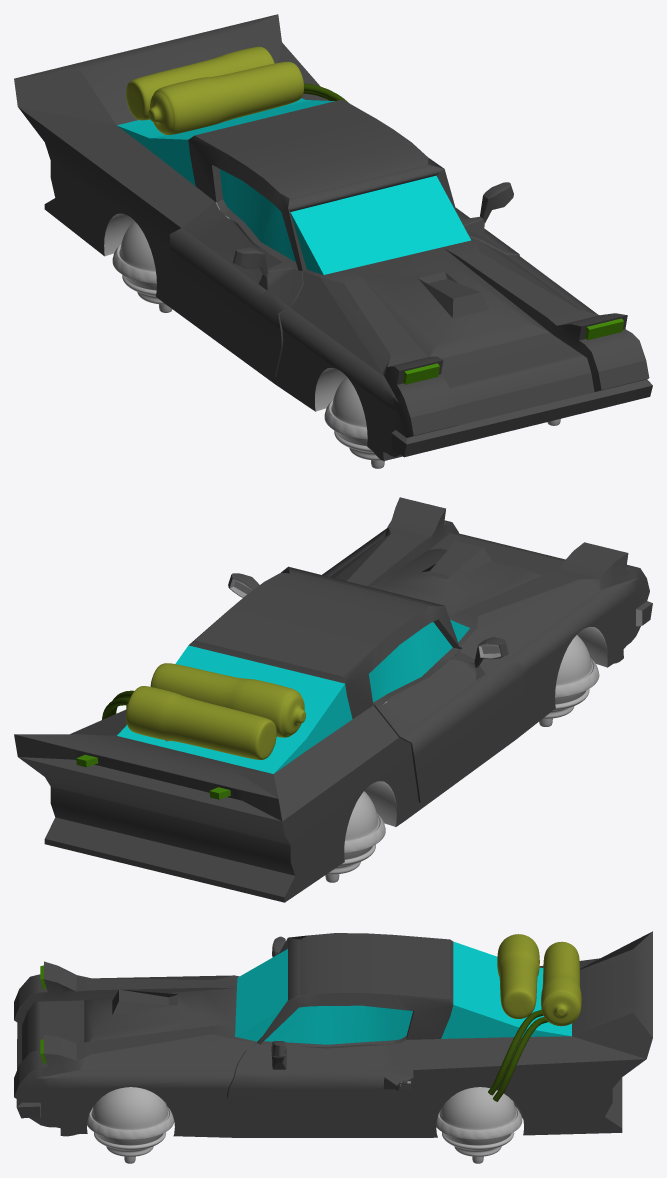
The model's file is HoverCarUV5.fbx.
The picture shows the model from 3 angles, top to bottom: view 1: azimuth 30°, elevation 25°; view 2: azimuth 150°, elevation 25°; view 3: azimuth 270°, elevation 25°; orthographic projection. The views are drawn at different scales.
Visible parts, largest first — view 1: Hover_Car_Body, Battery_1, Battery_2, Front_Passanger_Booster, Back_Passanger_Hover; view 2: Hover_Car_Body, Battery_2, Battery_1, Front_Passanger_Booster, Back_Passanger_Hover; view 3: Hover_Car_Body, Front_Driver_Hover, Back_Driver_Hover, Battery_1, Battery_2, Battery_Chord_1, Battery_Chord_2.
Boxes of the visible parts, box(x1,y1,x2,y2) form: Hover_Car_Body: box(14, 14, 652, 460); Battery_1: box(148, 61, 303, 134); Battery_2: box(126, 46, 274, 120); Front_Passanger_Booster: box(324, 376, 384, 468); Back_Passanger_Hover: box(112, 221, 172, 312); Hover_Car_Body: box(14, 497, 652, 902); Battery_2: box(126, 686, 276, 759); Battery_1: box(150, 663, 305, 737); Front_Passanger_Booster: box(539, 635, 599, 726); Back_Passanger_Hover: box(325, 791, 385, 882); Hover_Car_Body: box(14, 931, 652, 1137); Front_Driver_Hover: box(87, 1087, 174, 1163); Back_Driver_Hover: box(436, 1087, 522, 1163); Battery_1: box(497, 934, 539, 1018); Battery_2: box(541, 941, 581, 1026); Battery_Chord_1: box(488, 1010, 543, 1095); Battery_Chord_2: box(493, 1017, 548, 1101).
Bounding box in the file's own units: 17.32 × 11.87 × 41.35.
